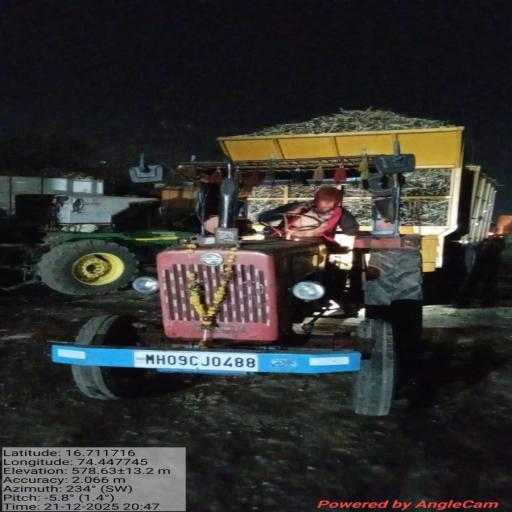number_plate: (134, 351, 258, 371)
